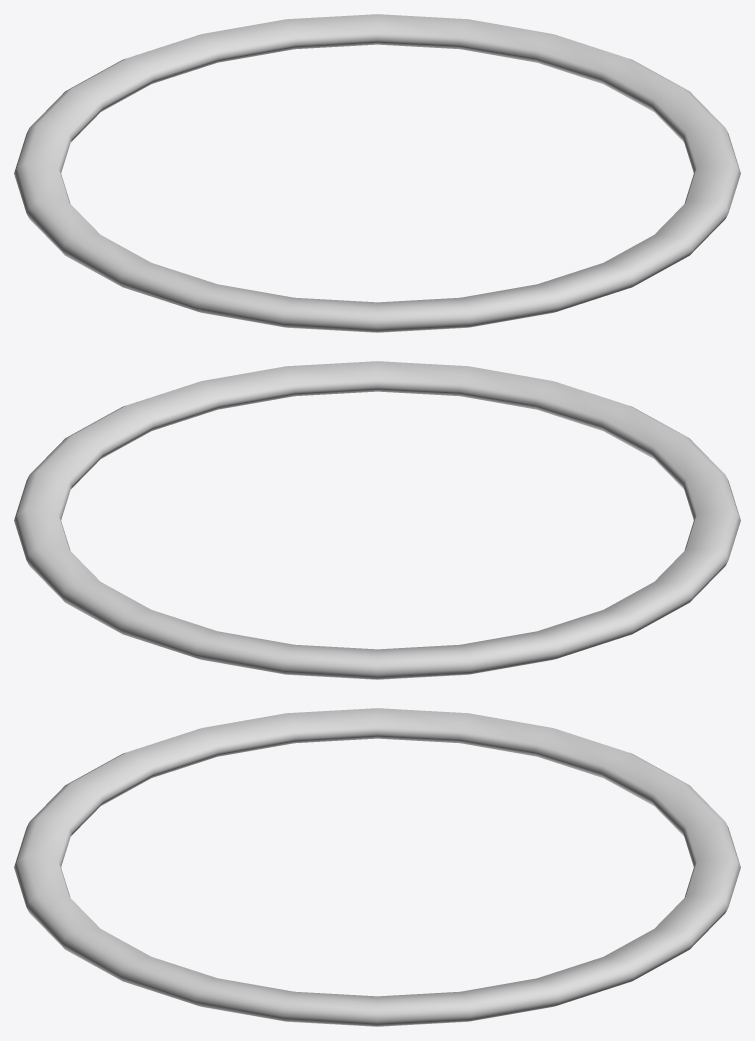
File: ring_silverlight.fbx
3 views of the same model, one above another, from view 1: azimuth 30°, elevation 25°; view 2: azimuth 150°, elevation 25°; view 3: azimuth 270°, elevation 25° (orthographic).
Visible parts, largest first — view 1: Torus001; view 2: Torus001; view 3: Torus001.
Boxes of the visible parts, box(x1,y1,x2,y2) form: Torus001: box(14, 14, 740, 332); Torus001: box(14, 361, 740, 679); Torus001: box(14, 708, 740, 1026).
Bounding box in the file's own units: 34.39 × 1.12 × 34.39.
1 material, 1 textured.
